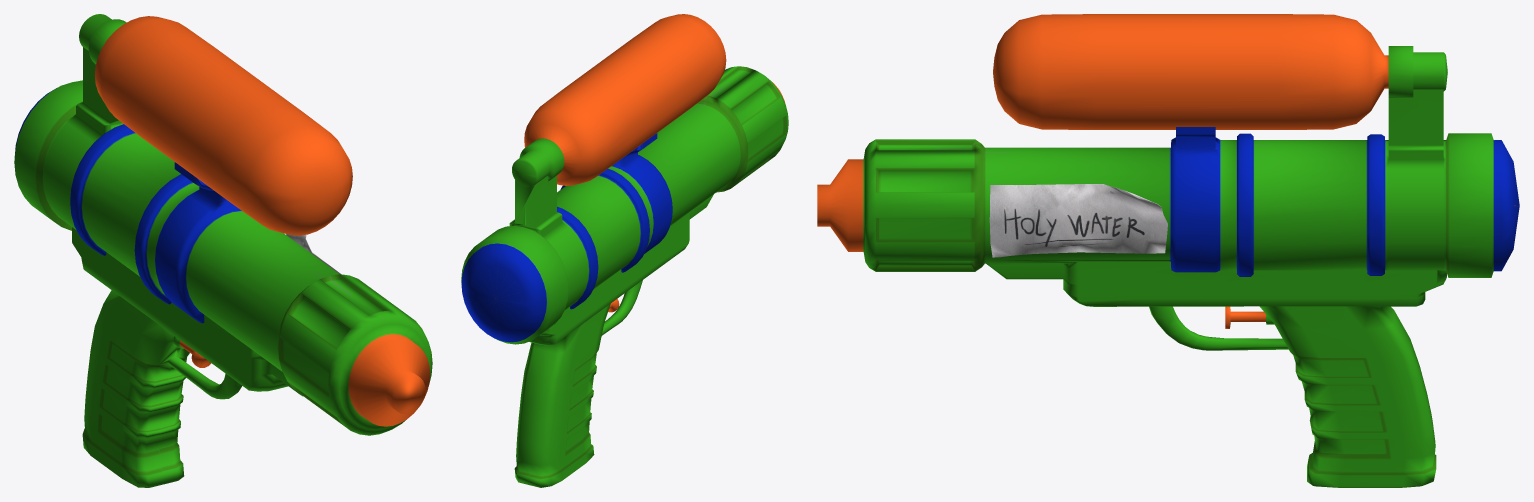
Rendered from WaterGun.glb.
The picture shows the model from 3 angles, left to right: view 1: azimuth 30°, elevation 25°; view 2: azimuth 150°, elevation 25°; view 3: azimuth 270°, elevation 25°; orthographic projection. The views are drawn at different scales.
Parts seen in each view (by area): view 1: Watergun; view 2: Watergun; view 3: Watergun.
Part boxes in pixels (x1=…): Watergun: x1=14, y1=14, x2=432, y2=487; Watergun: x1=461, y1=14, x2=788, y2=487; Watergun: x1=817, y1=14, x2=1519, y2=487.
Bounding box in the file's own units: 2.27 × 8.39 × 11.71.
1 material, 1 textured.
